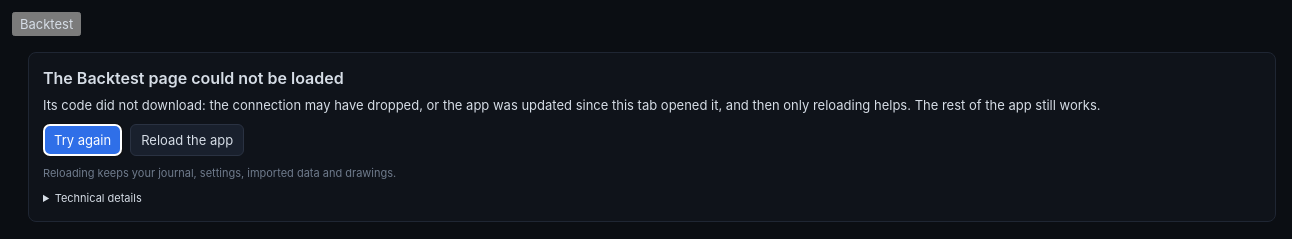
Test case: error boundaries › download a lazy page again on Try again after its download failed once
The image size is (1292, 239).
Click the button "Try again".
click(83, 140)  # box [43,124,122,156]
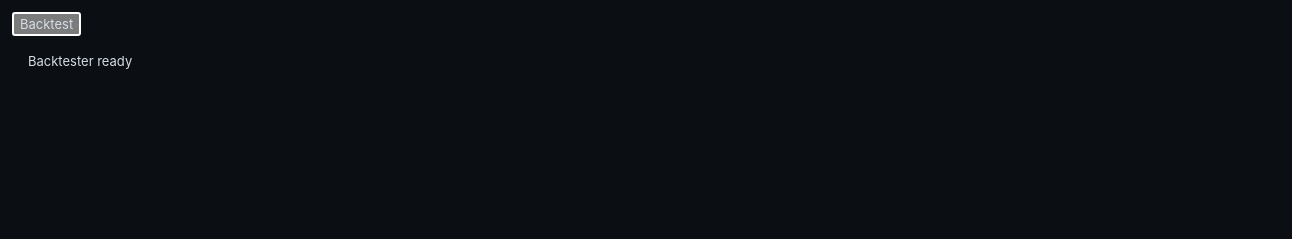
Expected: the button "Backtest" is shown, [12,12,81,36]
Expected: the text "Backtester ready" is shown, [28,53,132,69]
